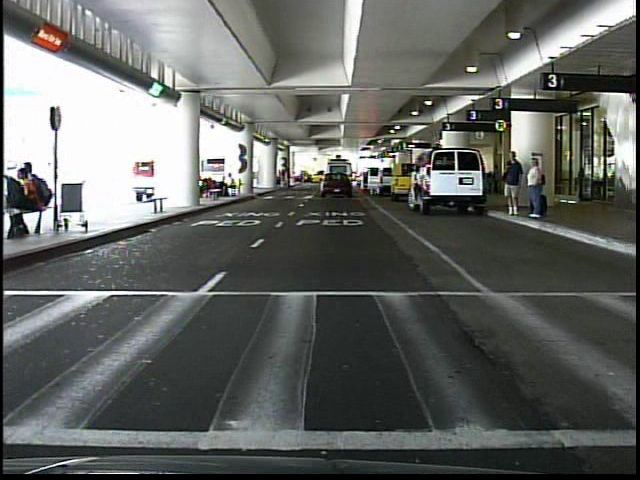person: (500, 146, 524, 218), (524, 153, 547, 224), (334, 171, 343, 193)
